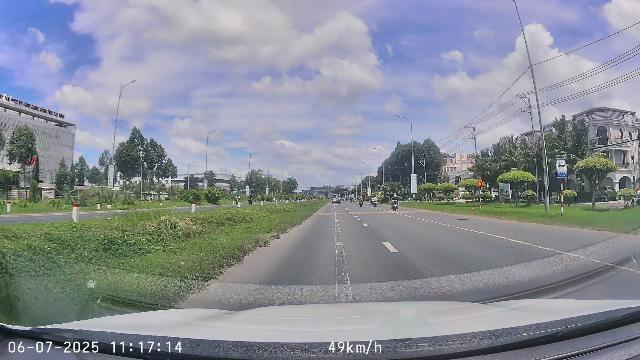201-cho-ngoat-nguy-hiem: (476, 178, 485, 187)
